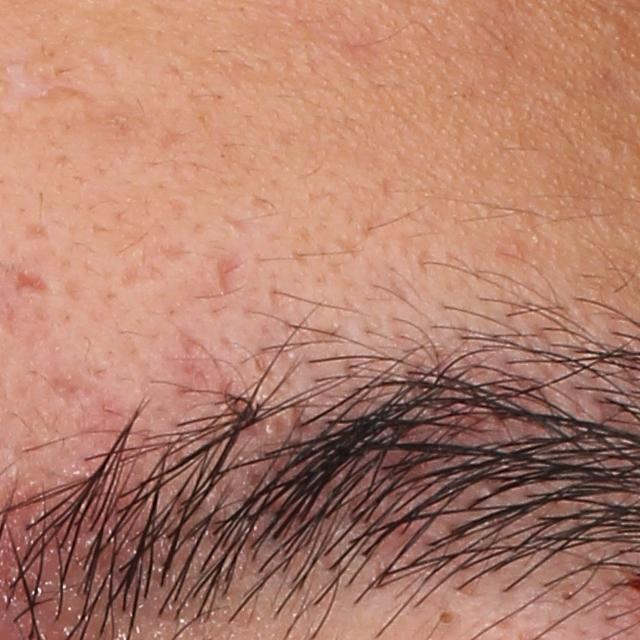atrophic_scar: (211, 252, 251, 298), (14, 268, 54, 297)
comedo: (434, 605, 464, 629)
